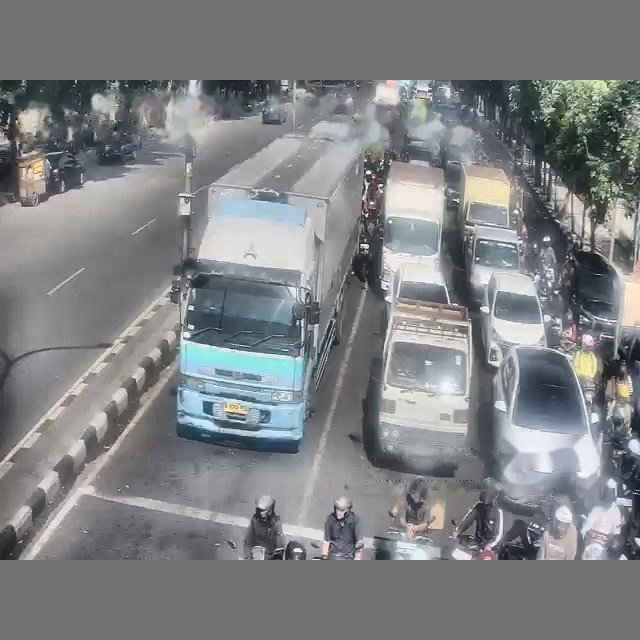Mobil: (493, 346, 601, 495), (480, 272, 550, 367), (560, 250, 621, 342), (385, 263, 450, 322), (45, 151, 84, 193), (96, 136, 136, 164), (262, 99, 287, 123), (333, 90, 354, 114)
Truk: (177, 122, 362, 452), (365, 298, 472, 469), (377, 162, 445, 291)
